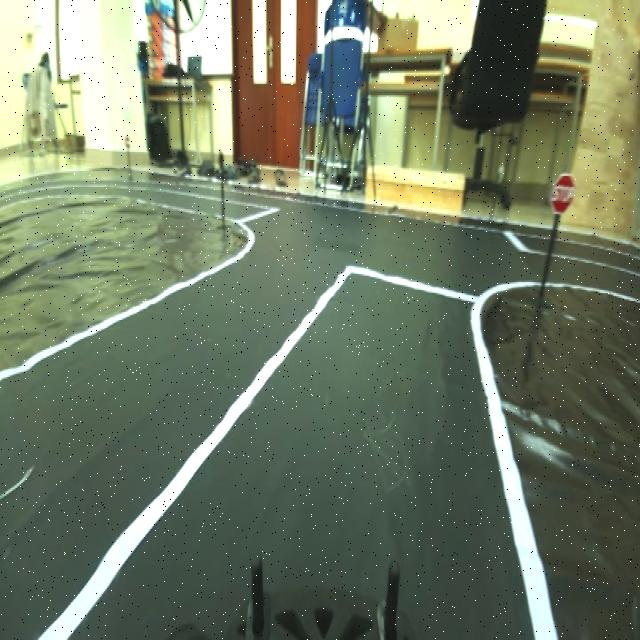stop: (549, 162, 577, 222)
